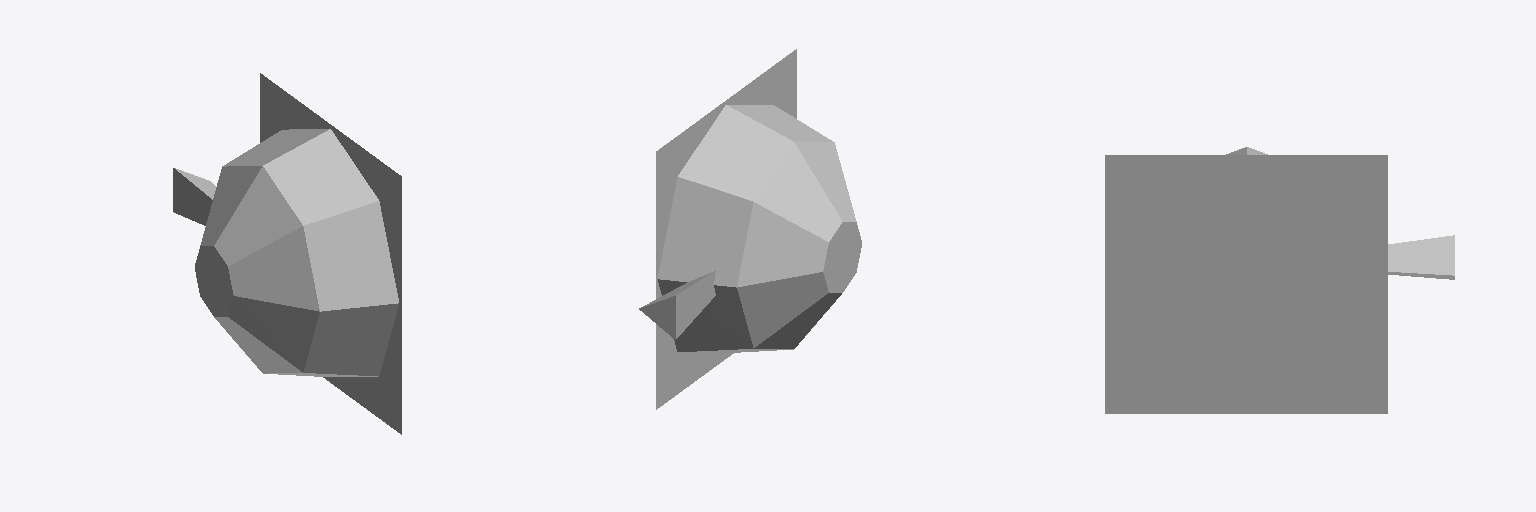
File: fara.acii.OBJ
The picture shows the model from 3 angles: view 1: azimuth 30°, elevation 25°; view 2: azimuth 150°, elevation 25°; view 3: azimuth 270°, elevation 25°; orthographic projection.
Bounding box in the file's own units: 0.1162 × 0.2459 × 0.3014.